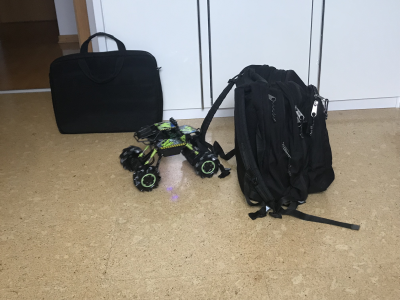remote control car: (116, 115, 220, 194)
